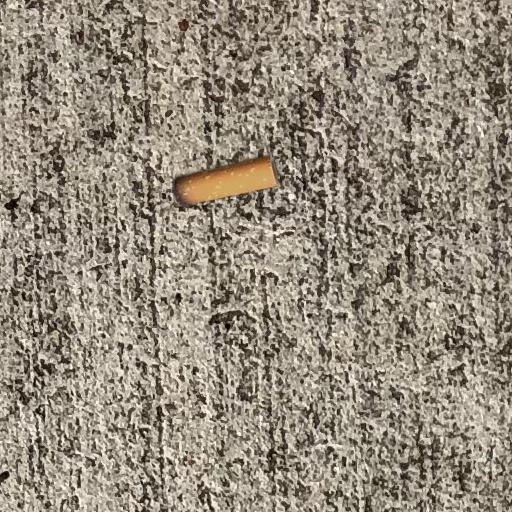smoke: (174, 156, 277, 205)
